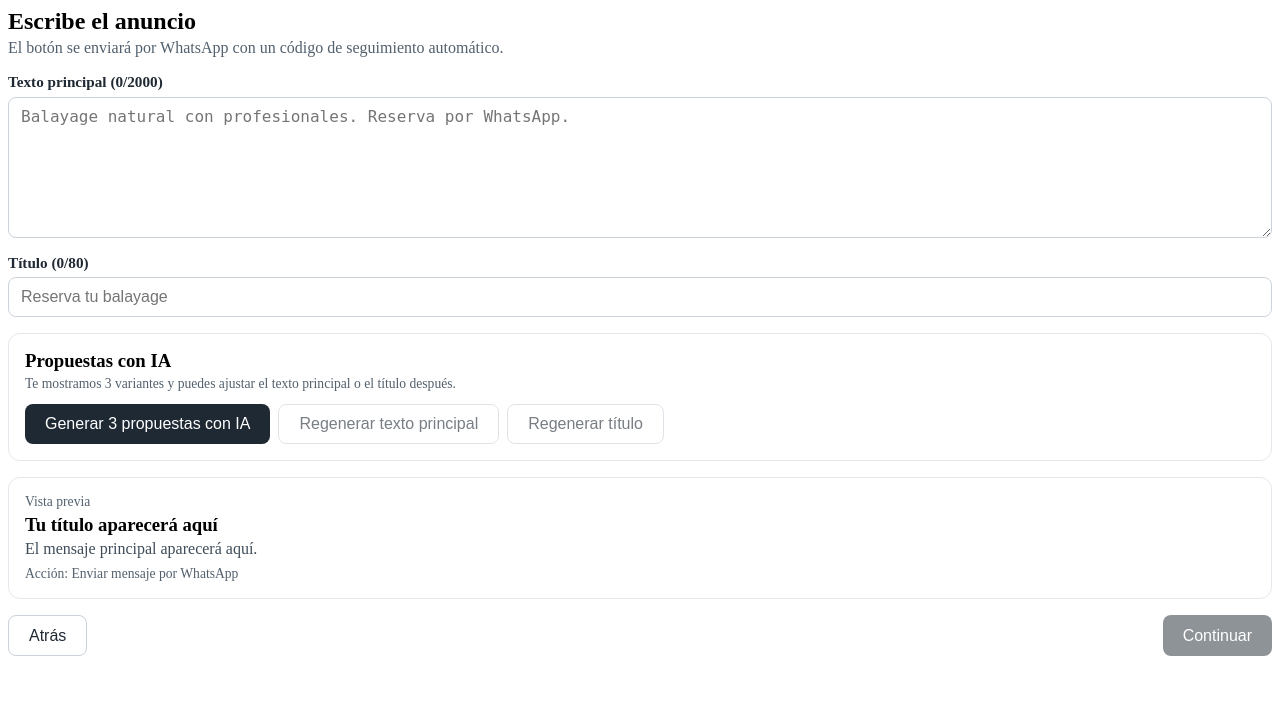
CopyStep › habilita el botón cuando hay servicio e imagen y muestra 3 tarjetas numeradas
Click the button "Generar 3 propuestas con IA" at (148, 424), box [25, 404, 270, 444]
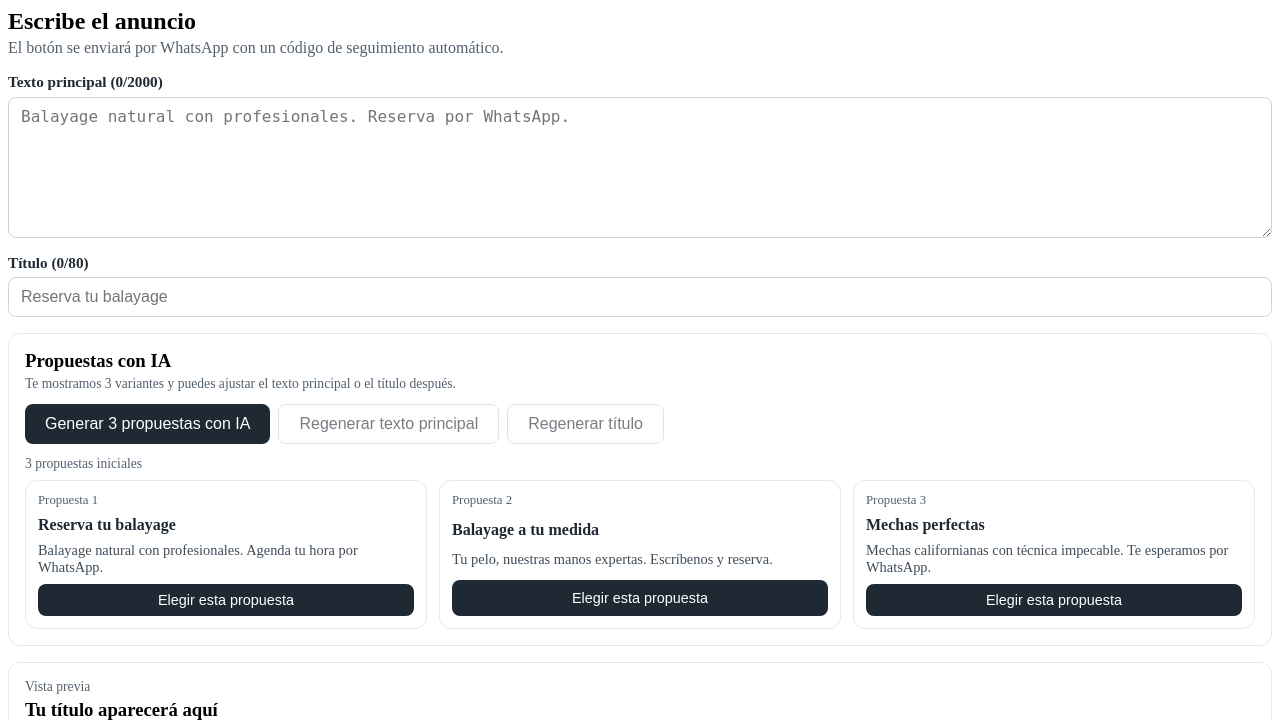
Result: the text "Propuesta 1" is shown at [38, 493, 98, 507]
Result: the text "Propuesta 2" is shown at [452, 493, 512, 507]
Result: the text "Propuesta 3" is shown at [866, 493, 926, 507]
